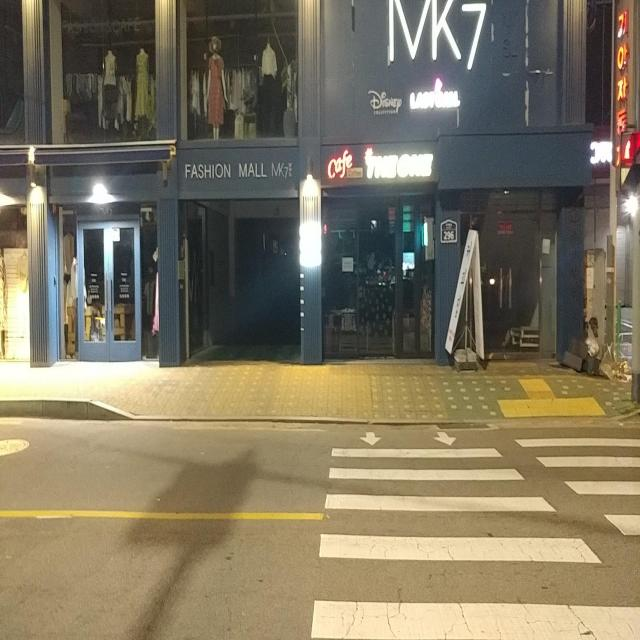횡단보도: (305, 427, 640, 640)
